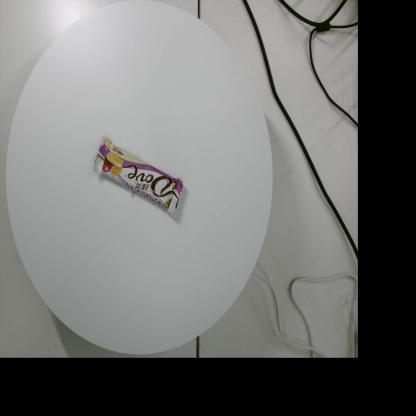Chocolate: (92, 136, 184, 215)
